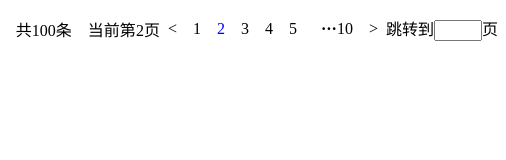
Test: mount Pagination › 分页点击数字3：跳转到第3页
Click the text "3": click(245, 28) [241,20,249,38]
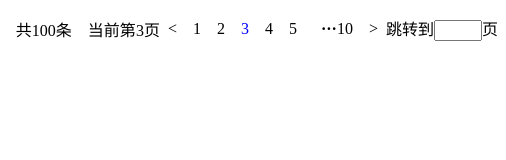
Check: the text "当前第3页" is shown, box [88,16,160,40]
